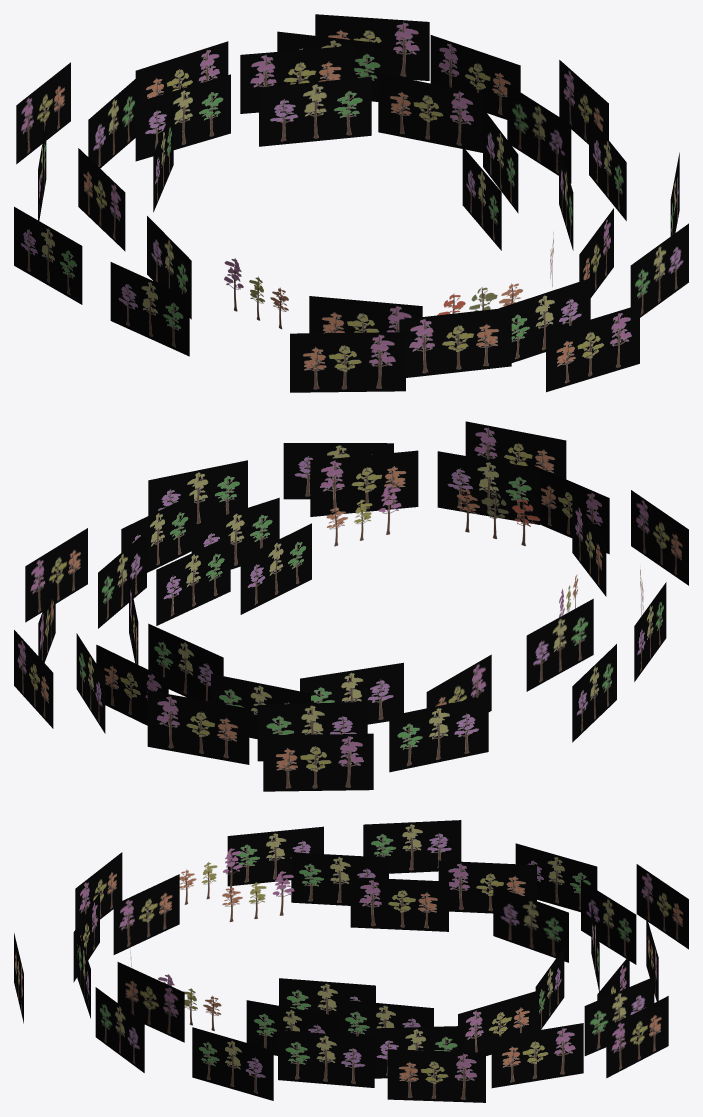
Rendered from arvore fundo 3.glb.
The picture shows the model from 3 angles, top to bottom: view 1: azimuth 30°, elevation 25°; view 2: azimuth 150°, elevation 25°; view 3: azimuth 270°, elevation 25°; orthographic projection. The views are drawn at different scales.
Visible parts, largest first — view 1: 11111; view 2: 11111; view 3: 11111.
Boxes of the visible parts, x1,y1,x2,y2 form: 11111: (14, 14, 688, 392); 11111: (14, 421, 688, 791); 11111: (14, 820, 688, 1102).
Size of the model in its own units: 850 by 102 by 1043.
4 materials, 4 textured.
